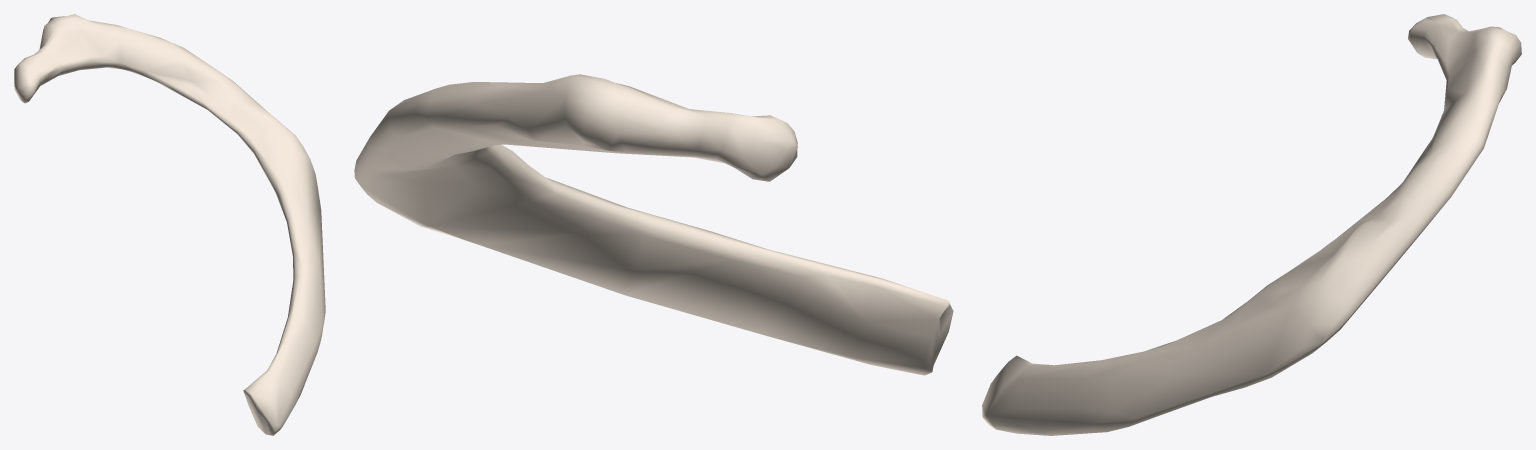
Rendered from left_rib_2.glb.
3 views of the same model, side by side, from view 1: azimuth 30°, elevation 25°; view 2: azimuth 150°, elevation 25°; view 3: azimuth 270°, elevation 25° (orthographic). The views are drawn at different scales.
Visible parts, largest first — view 1: Rib (2nd).r; view 2: Rib (2nd).r; view 3: Rib (2nd).r.
Part boxes in pixels (x1,y1,x2,y2): Rib (2nd).r: [14, 14, 325, 435]; Rib (2nd).r: [354, 74, 953, 375]; Rib (2nd).r: [982, 14, 1521, 435].
Bounding box in the file's own units: 0.0833 × 0.0899 × 0.1147.
